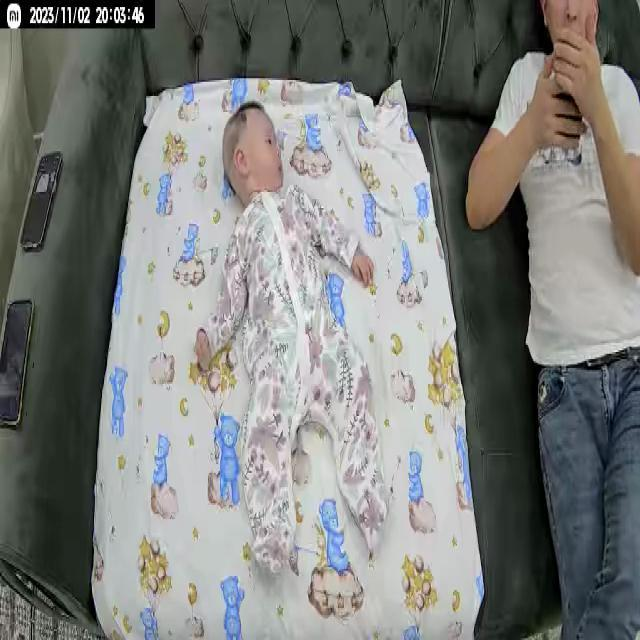baby: (198, 101, 388, 580)
